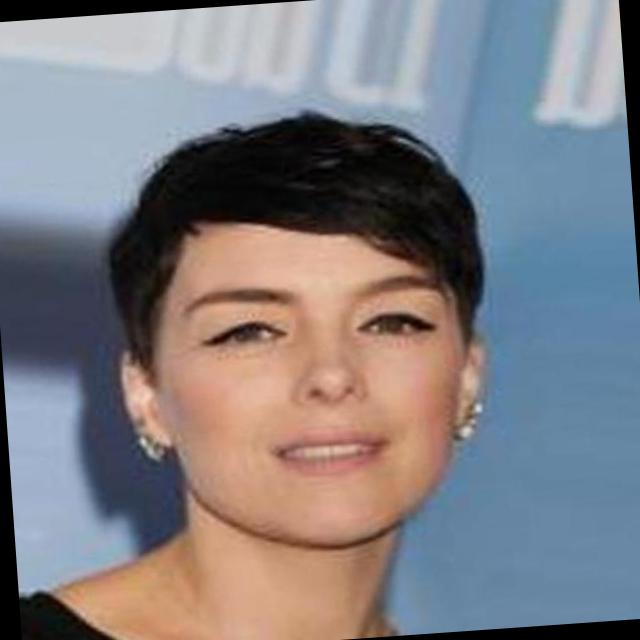bareface: (105, 190, 507, 568)
